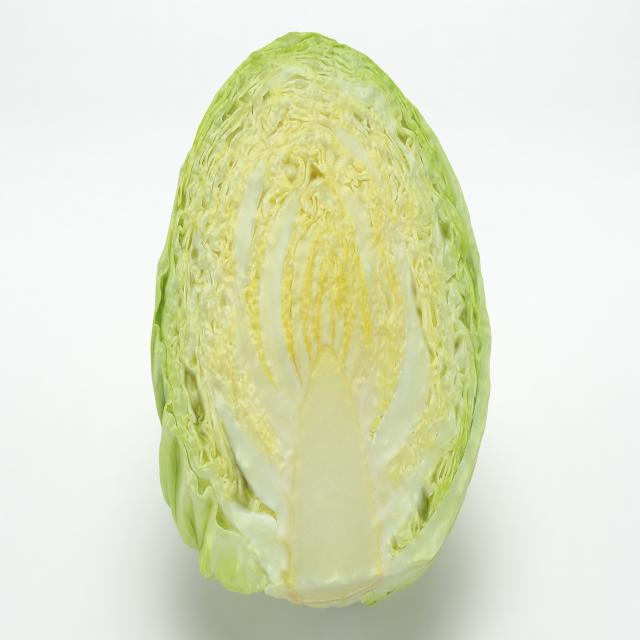haft-cabbage: (151, 28, 493, 620)
